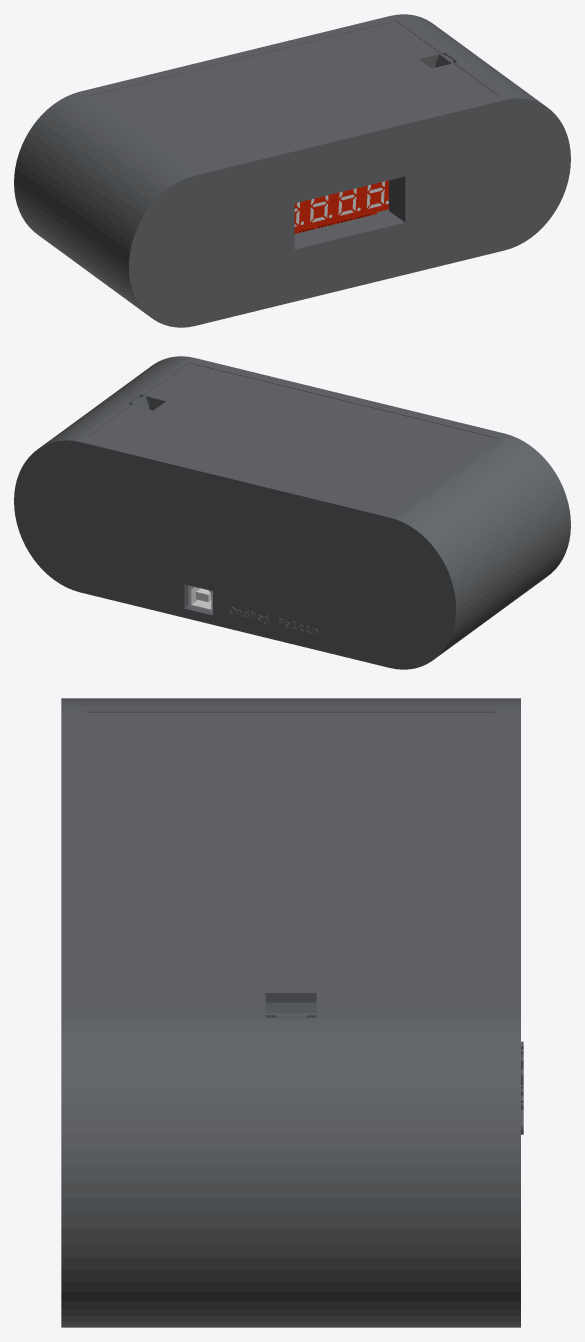
The model's file is clock.glb.
The picture shows the model from 3 angles, top to bottom: view 1: azimuth 30°, elevation 25°; view 2: azimuth 150°, elevation 25°; view 3: azimuth 270°, elevation 25°; orthographic projection. The views are drawn at different scales.
Visible parts, largest first — view 1: Mesh_Mesh_head_geo.001_lambert2SG.001; view 2: Mesh_Mesh_head_geo.001_lambert2SG.001; view 3: Mesh_Mesh_head_geo.001_lambert2SG.001.
Boxes of the visible parts, <box> form: Mesh_Mesh_head_geo.001_lambert2SG.001: <box>14,14,570,327</box>; Mesh_Mesh_head_geo.001_lambert2SG.001: <box>14,356,570,669</box>; Mesh_Mesh_head_geo.001_lambert2SG.001: <box>61,698,523,1327</box>.
Bounding box in the file's own units: 200 × 65 × 90.5.
